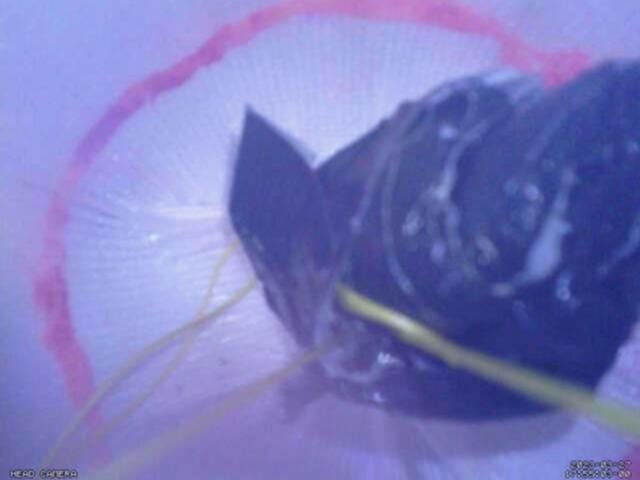head: (33, 1, 640, 480)
